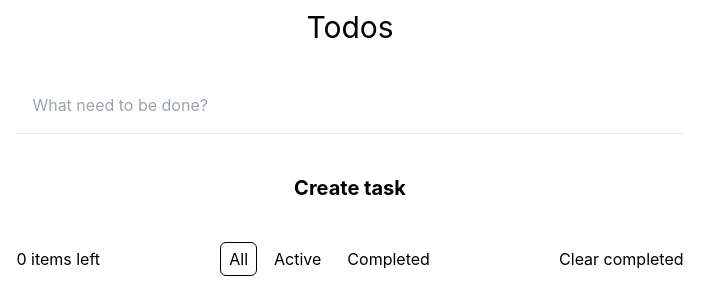
active todos
Type "task1" into the field named "task-form-input" at (350, 105), box 16,77 -> 684,133
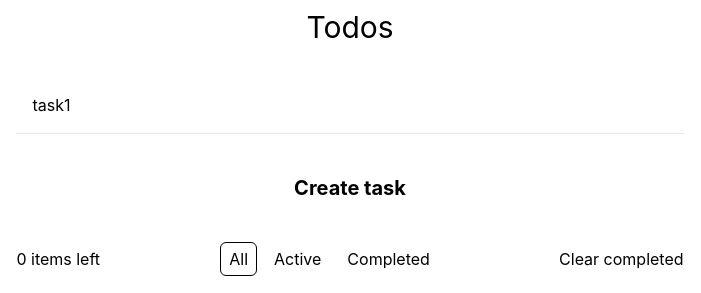
Submit the form named "task-form", box 16,77 -> 684,134
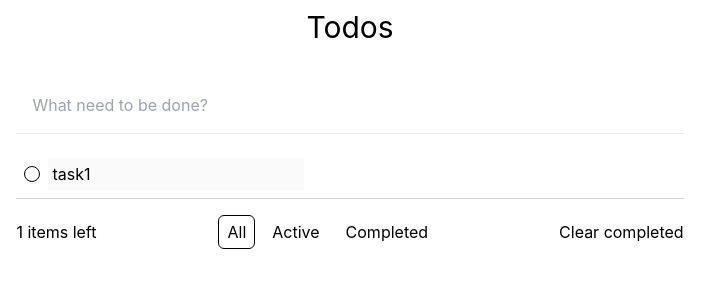
Click the element named "task-item" at (350, 174), box 16,150 -> 684,199
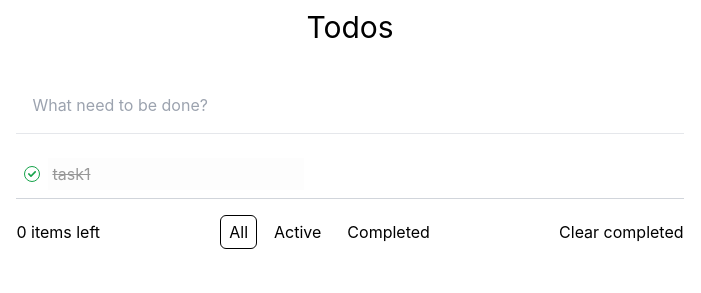
Click the button with aria-label "task-active" at (298, 232), box 265,215 -> 330,249
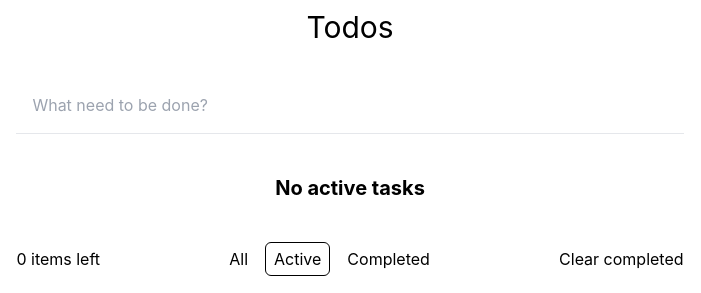
Expected: the field labelled "task-item" is gone
